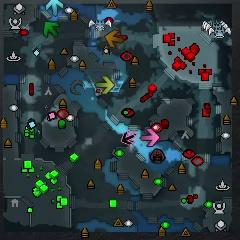x1: (140, 128, 160, 147)
x1Clone: (121, 131, 137, 145)
x2: (95, 76, 114, 95)
x3: (45, 0, 65, 17)
x4: (42, 21, 60, 39)
x5: (104, 30, 124, 49)
